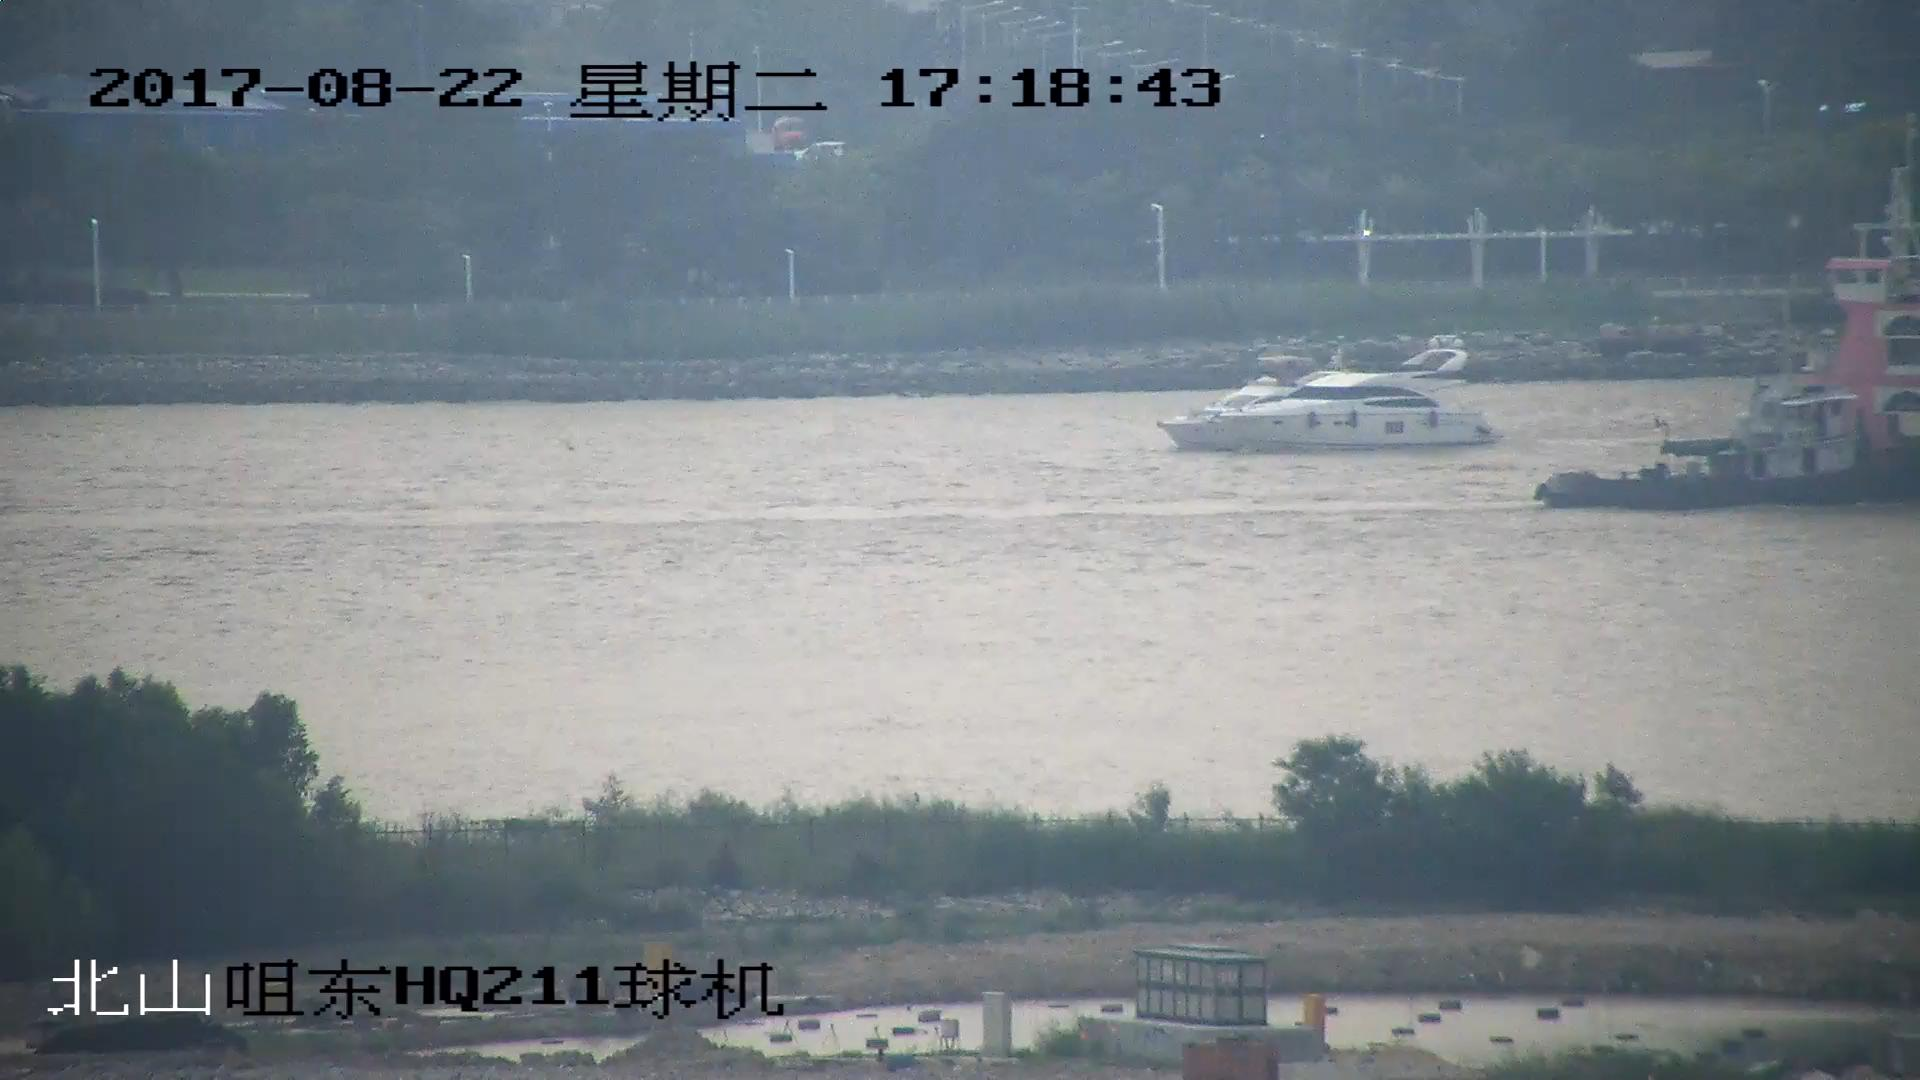fishing boat: (1544, 345, 1920, 502)
passenger ship: (1794, 177, 1920, 503), (1160, 343, 1502, 453)
